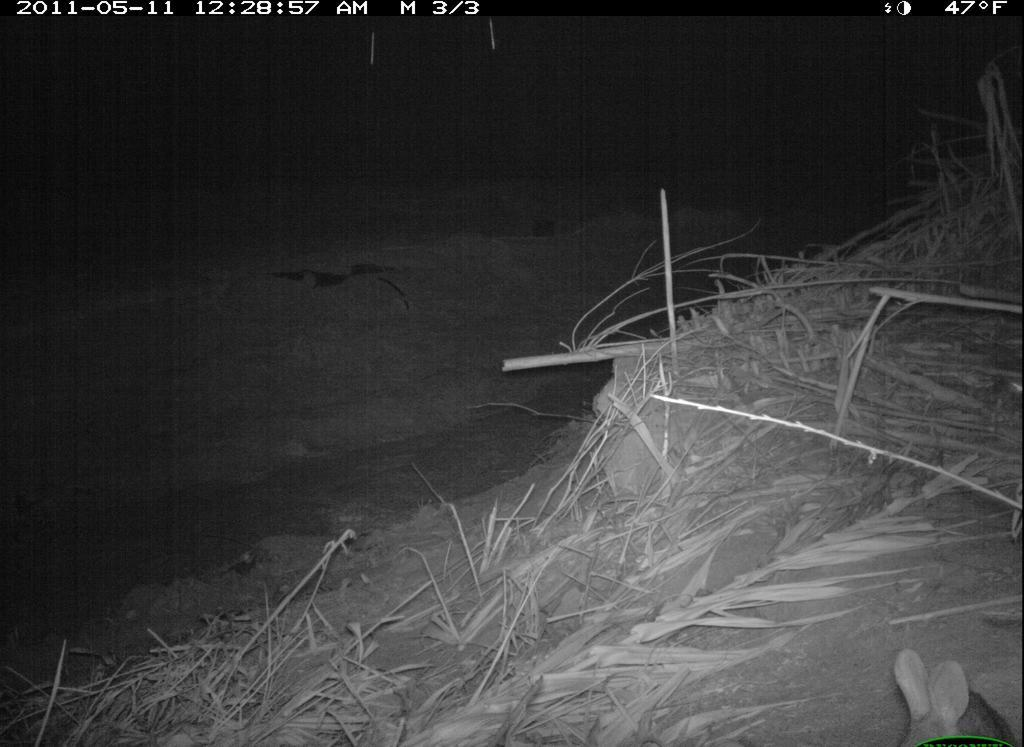rabbit: (879, 633, 1013, 747)
